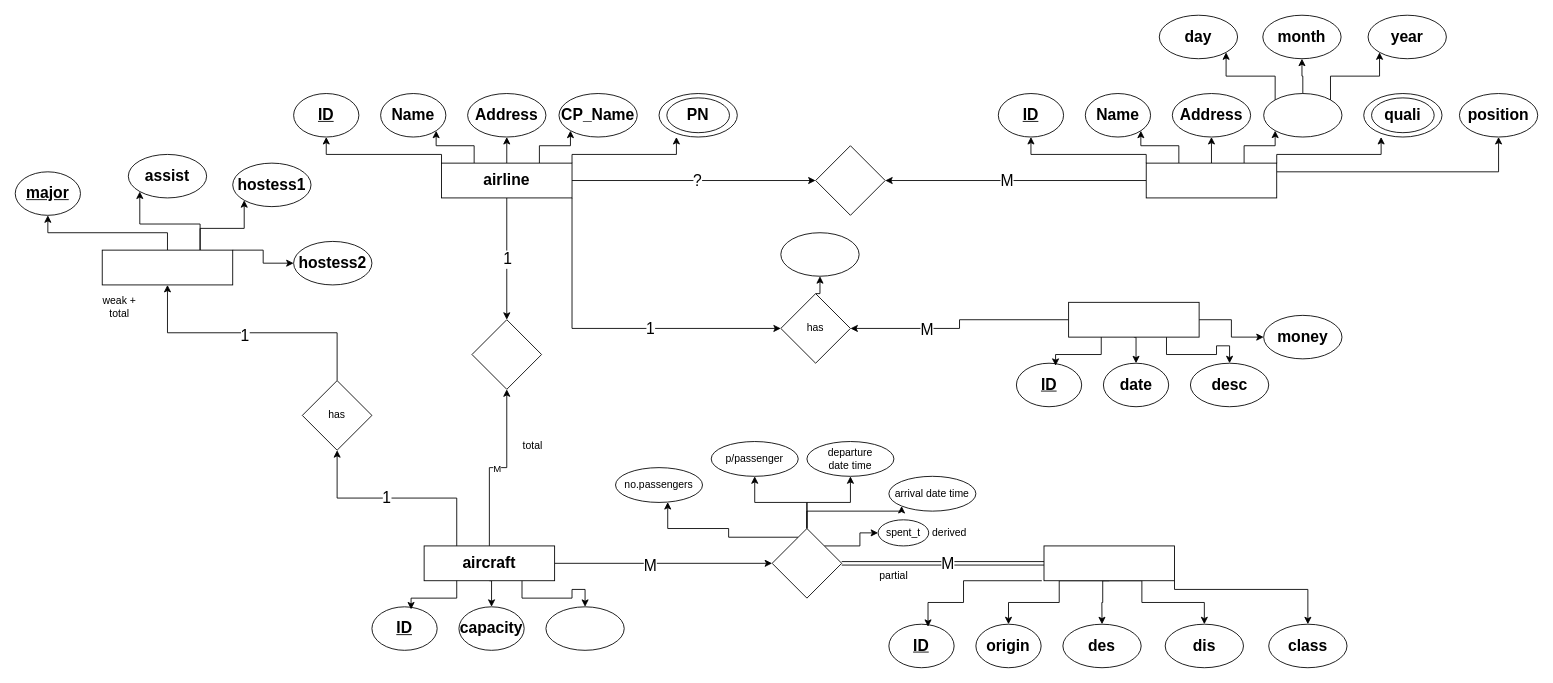
This 1553x683 diagram has some shape labels left out. Each missing label, with the centre of its shape:
"assign" belongs at (806,563).
"crew" belongs at (167,267).
"DOB" belongs at (1302,115).
"employee" belongs at (1211,180).
"model" belongs at (584,628).
"owns" belongs at (506,354).
"route" belongs at (1108,563).
"transaction" belongs at (1133,319).
"type" belongs at (819,254).
"works" belongs at (850,180).
